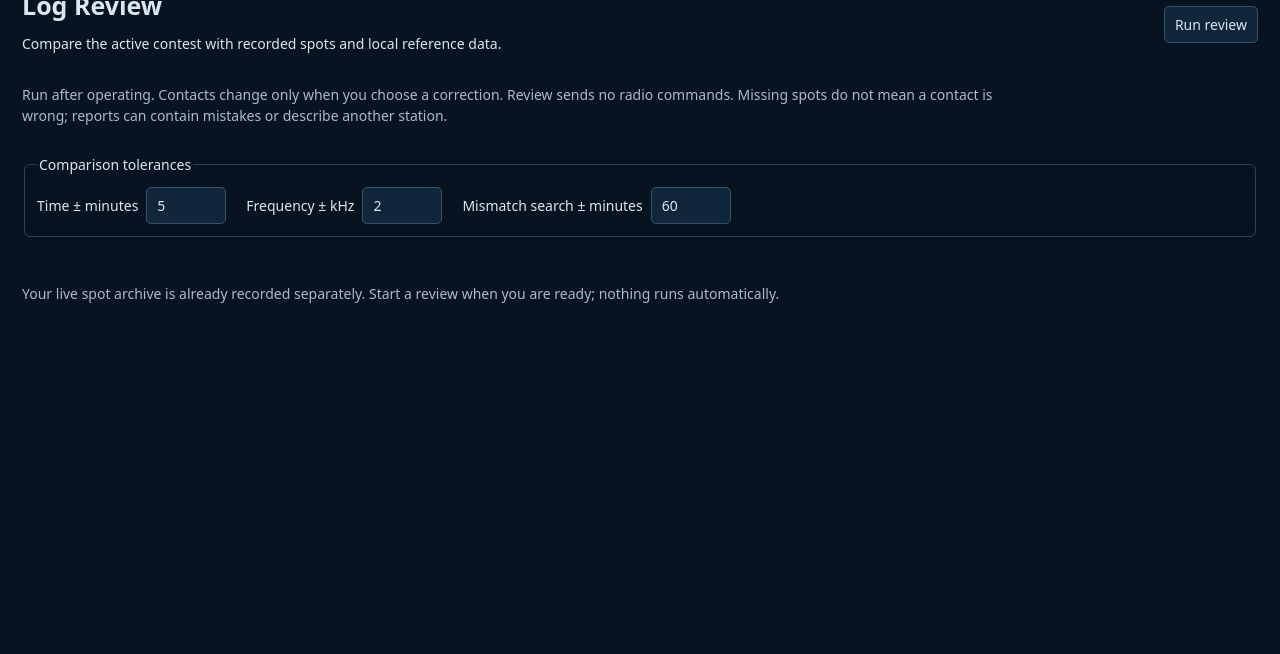
Log Review window › keeps a failed or uncertain correction disabled until a fresh review
Click the button "Run review".
click(1211, 24)  # box left=1164, top=6, right=1258, bottom=43
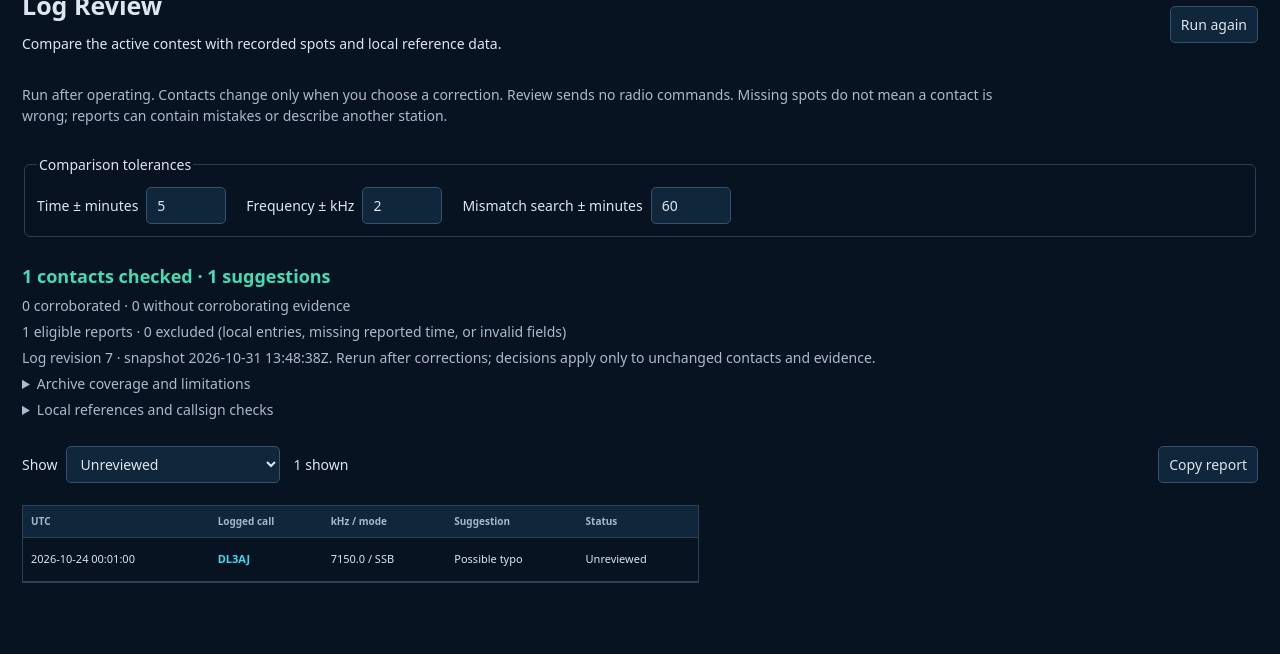
Click the button "DL3AJ".
click(234, 559)  # box left=218, top=546, right=250, bottom=572
(page scrolled)
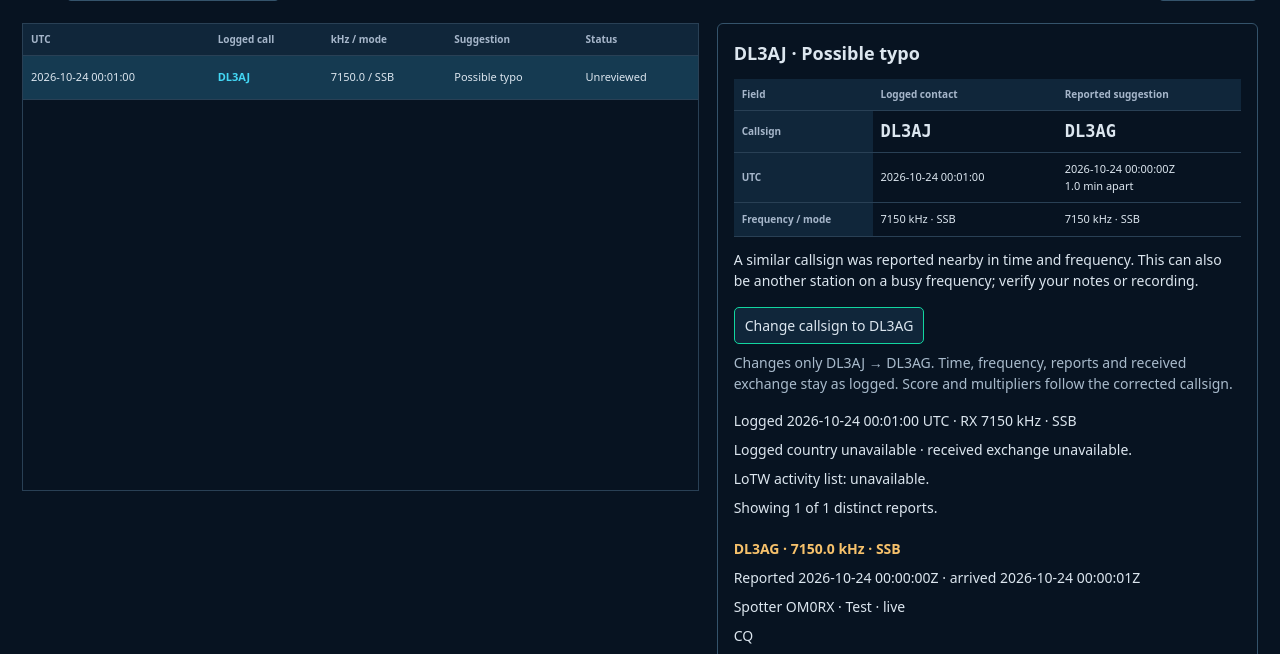
Click the button "Change callsign to DL3AG".
click(829, 325)  # box left=734, top=306, right=924, bottom=344
(page scrolled)
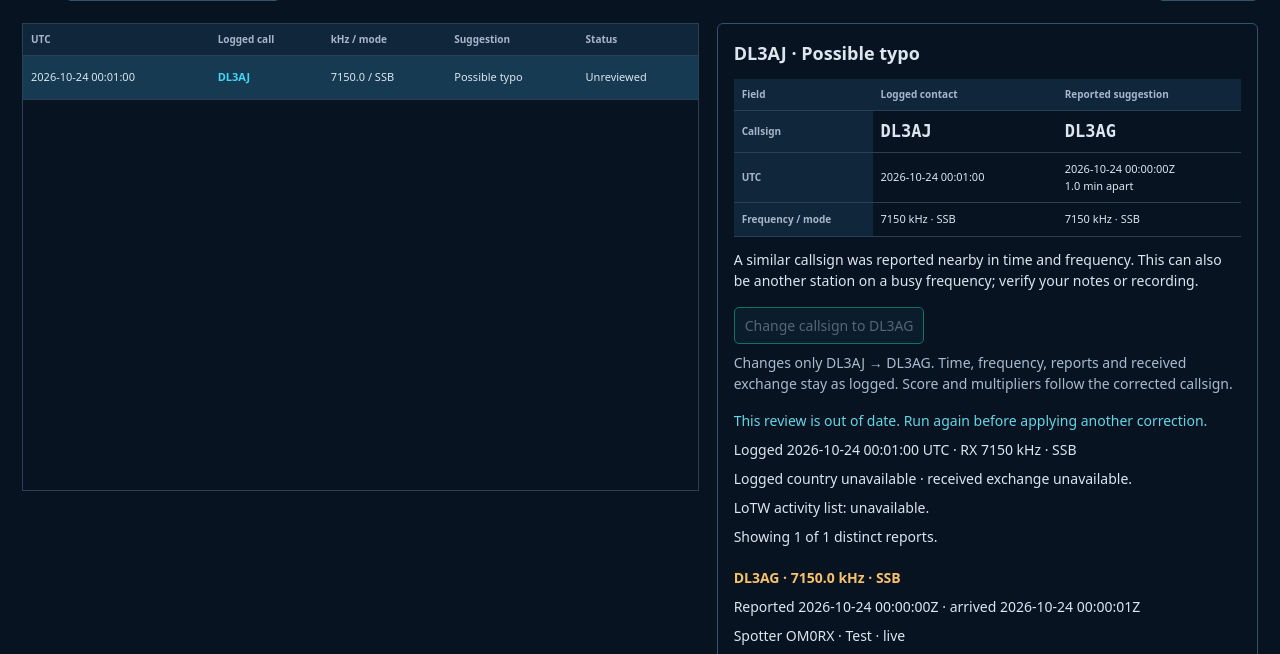
Check: the button "Change callsign to DL3AG" is disabled, box left=734, top=306, right=924, bottom=344
